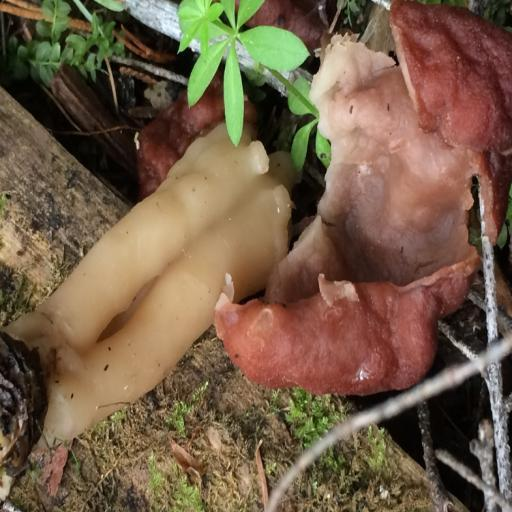mushroom: (148, 2, 512, 409)
